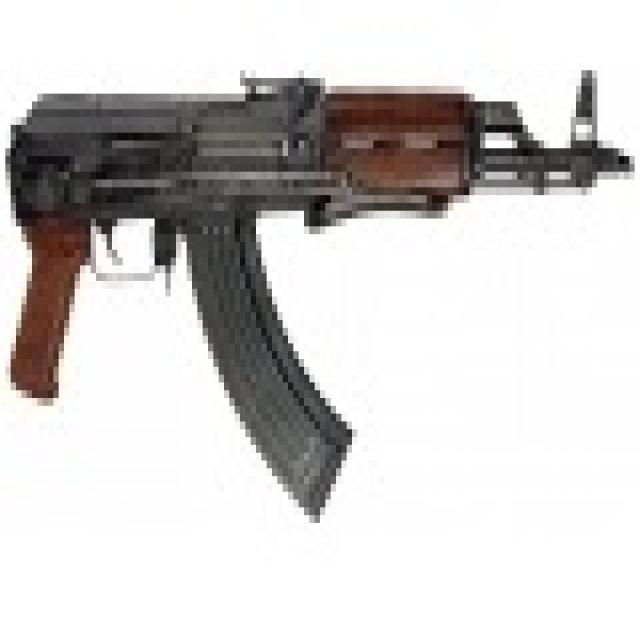Gun: (15, 61, 618, 505)
